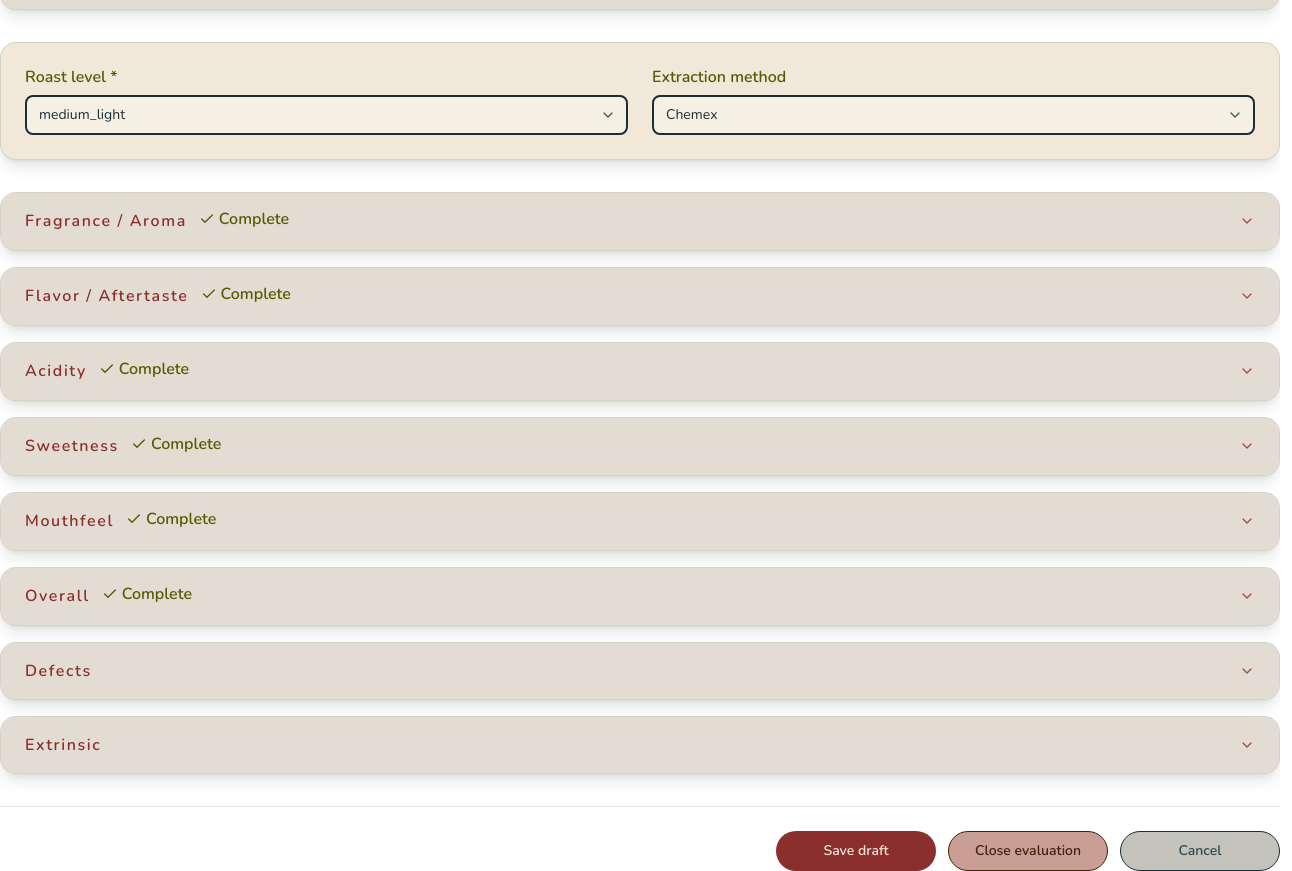
it: EvaluationForm: closing (design.md D4, D10; tasks 7.1) › shows the not-yours message on a 403 with nothing resent
(page scrolled)
Click the button "Close evaluation" at x=1028, y=850, box x1=948 y1=830 x2=1108 y2=870
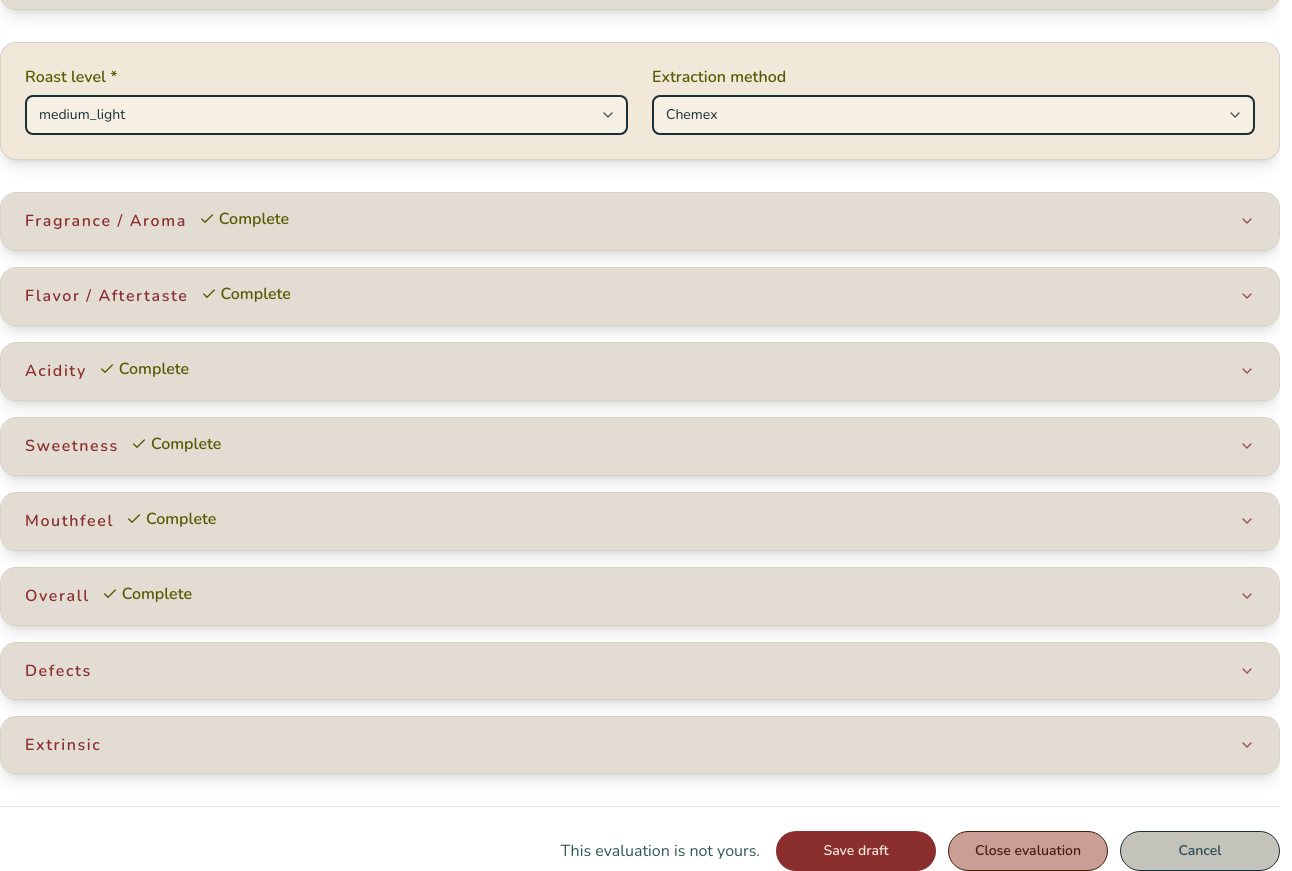
Now the message reads "This evaluation is not yours.", box x1=561 y1=840 x2=760 y2=862
